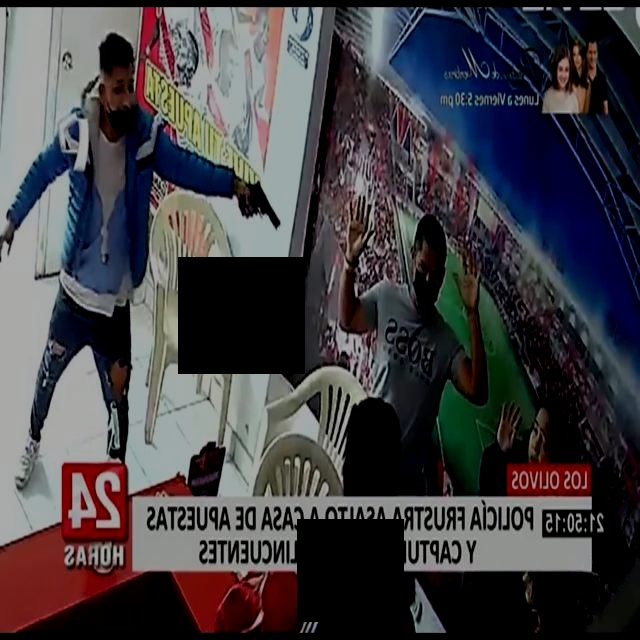gun: (229, 155, 283, 248)
